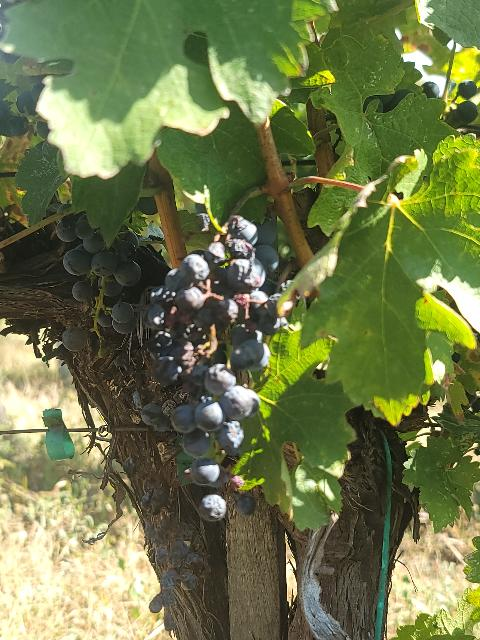grapes: (144, 215, 279, 488), (55, 214, 141, 334)
